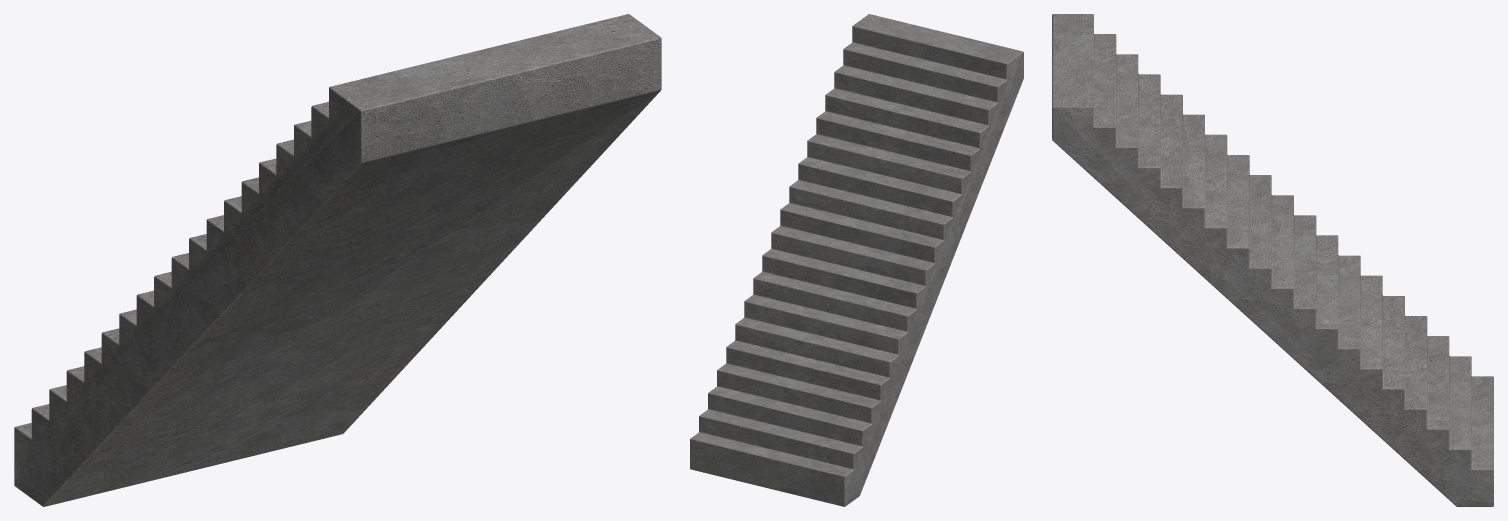
Rendered from concreate Stair.fbx.
3 renders of one model, left to right at view 1: azimuth 30°, elevation 25°; view 2: azimuth 150°, elevation 25°; view 3: azimuth 270°, elevation 25°, orthographic. The views are drawn at different scales.
Visible parts, largest first — view 1: Cube; view 2: Cube; view 3: Cube.
Part boxes in pixels (x1=…): Cube: x1=14, y1=14, x2=661, y2=506; Cube: x1=690, y1=14, x2=1023, y2=506; Cube: x1=1052, y1=14, x2=1493, y2=506.
Size of the model in its own units: 200 by 400 by 400.
1 material, 1 textured.
